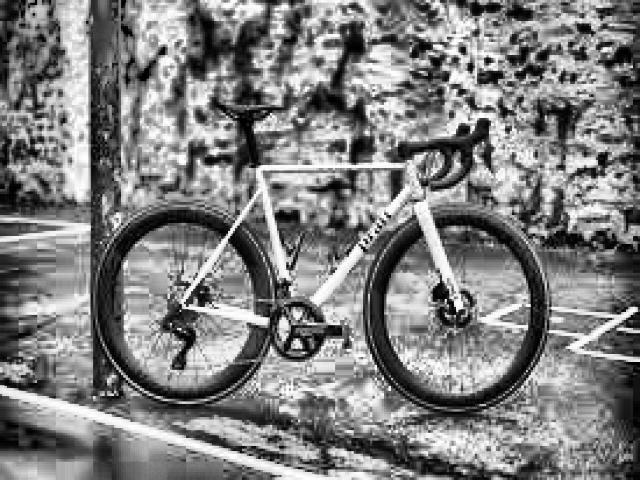cranks_set: (266, 296, 343, 363)
pedal: (338, 324, 352, 351)
rear_derailleur: (161, 306, 198, 374)
saddle: (209, 100, 283, 123)
sti_shifter: (474, 116, 500, 176)
wheel: (362, 202, 553, 418), (90, 198, 280, 409)
